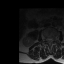CCS_normal: (48, 35, 50, 44)
LFS_normal: (52, 36, 55, 42)
LLS_normal: (50, 36, 52, 43)
RFS_normal: (44, 35, 46, 42)
RLS_normal: (46, 36, 48, 43)
